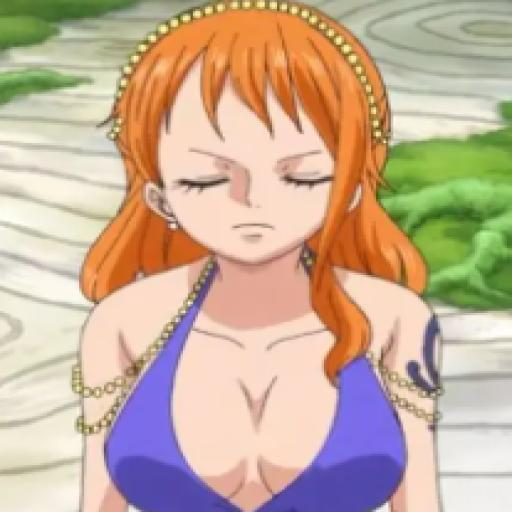Nami: (48, 3, 466, 512)
